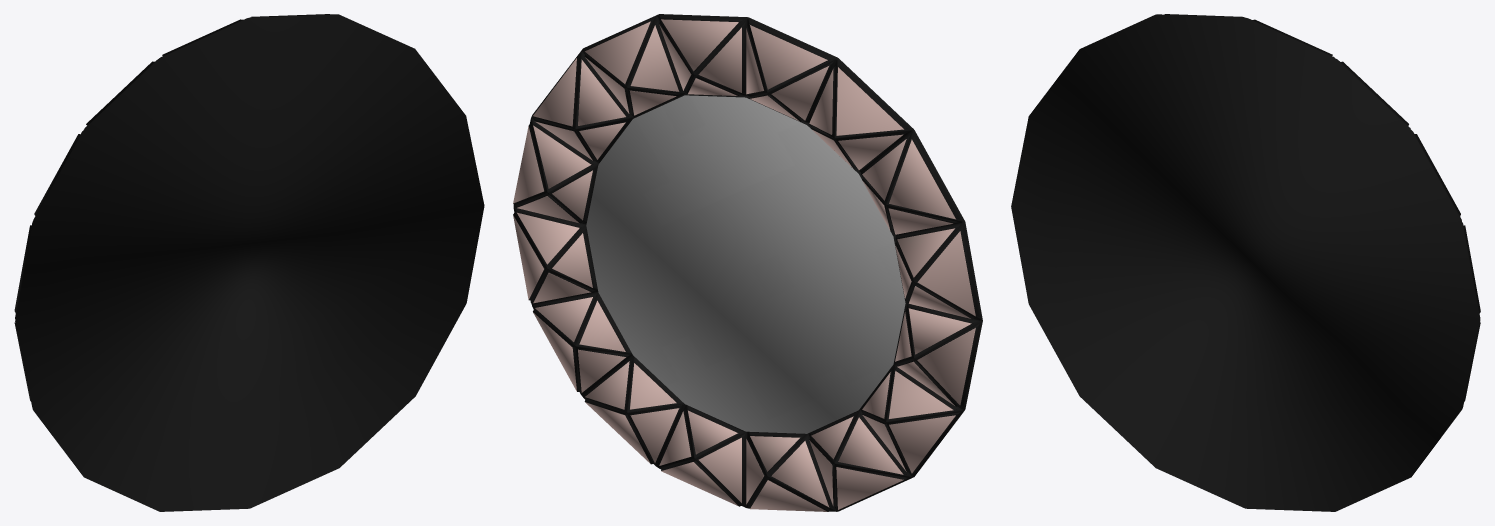
The model's file is mirror.glb.
3 views of the same model, side by side, from view 1: azimuth 30°, elevation 25°; view 2: azimuth 150°, elevation 25°; view 3: azimuth 330°, elevation 25° (orthographic).
Parts seen in each view (by area): view 1: Object_2; view 2: Object_3, Object_4, Object_2; view 3: Object_2.
Part boxes in pixels (bbox=[...]): Object_2: bbox=[14, 14, 484, 511]; Object_3: bbox=[586, 95, 905, 433]; Object_4: bbox=[513, 19, 975, 511]; Object_2: bbox=[513, 14, 982, 511]; Object_2: bbox=[1011, 14, 1480, 511].
Bounding box in the file's own units: 0.7996 × 0.7996 × 0.0521.
Materials: 3 (2 with a texture image).
